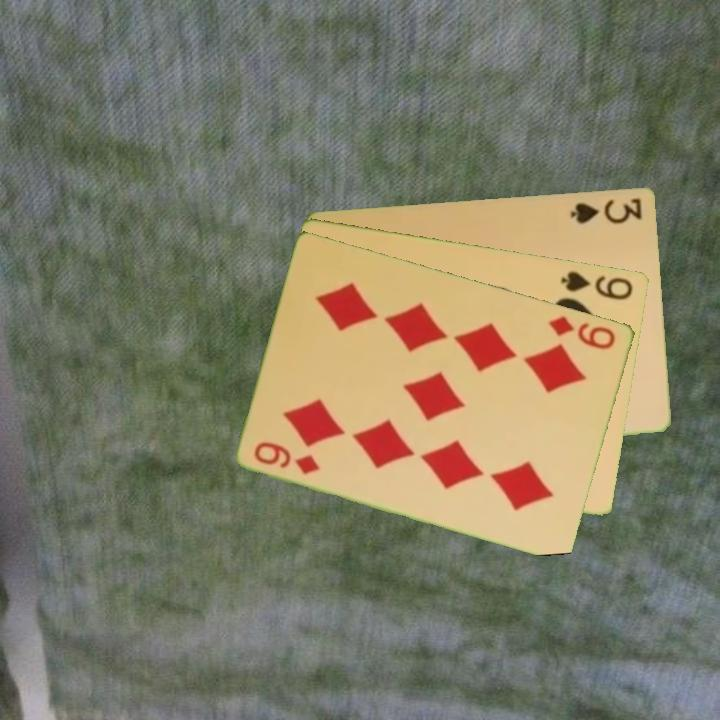3s: (567, 194, 645, 226)
9d: (545, 312, 619, 352), (251, 438, 324, 478)
9s: (558, 267, 636, 303)
